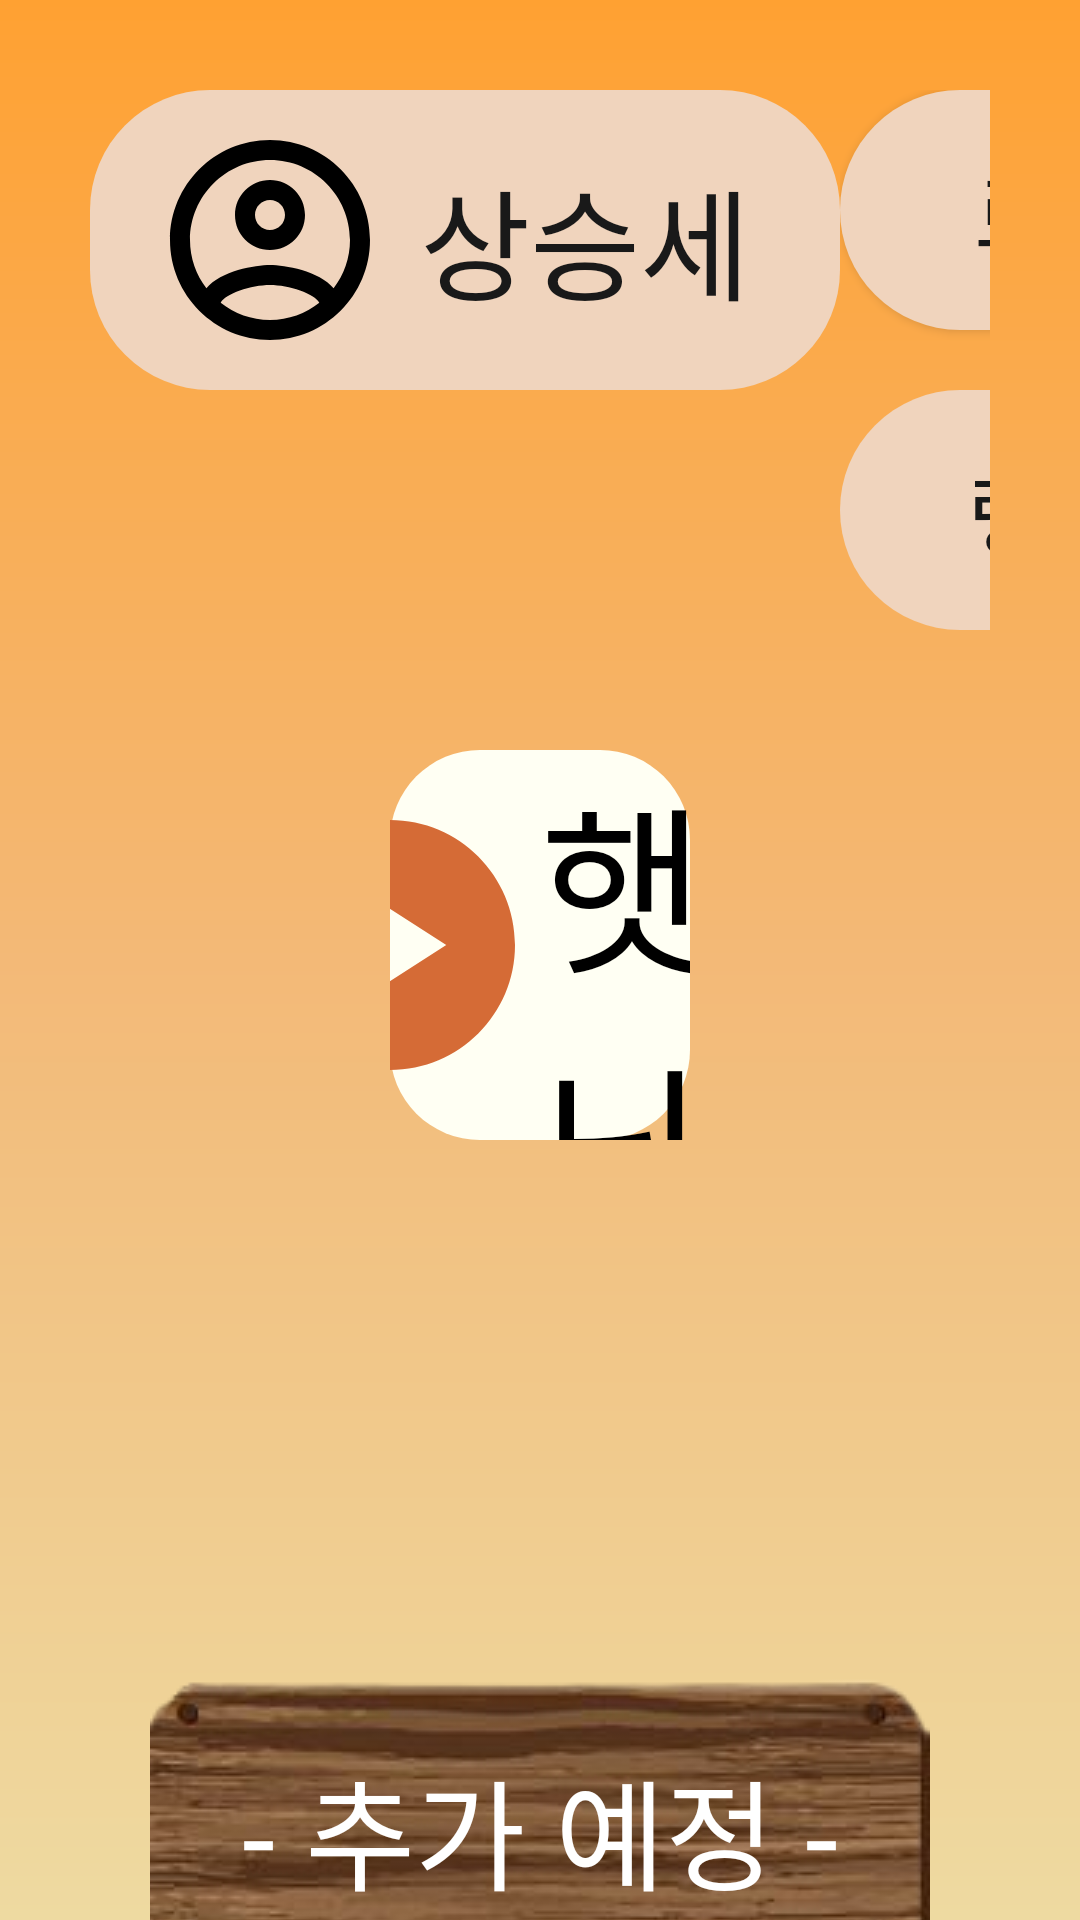

Icons on this 1080x1920 Android screen, each with its box as box(x1, y1, x2, y2):
person: box(169, 140, 370, 340)
